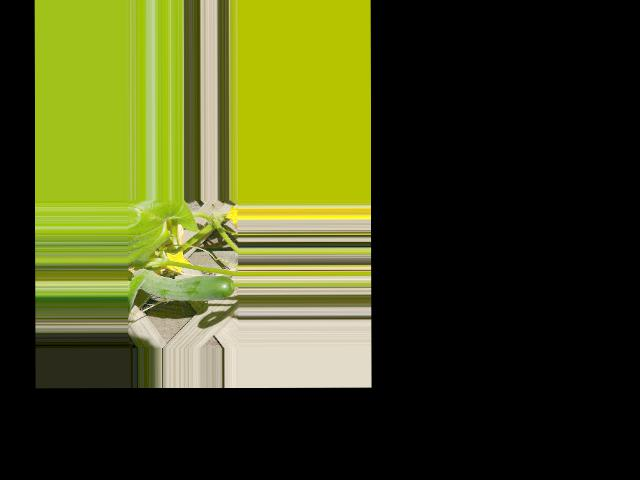cucumber: (127, 268, 233, 301)
